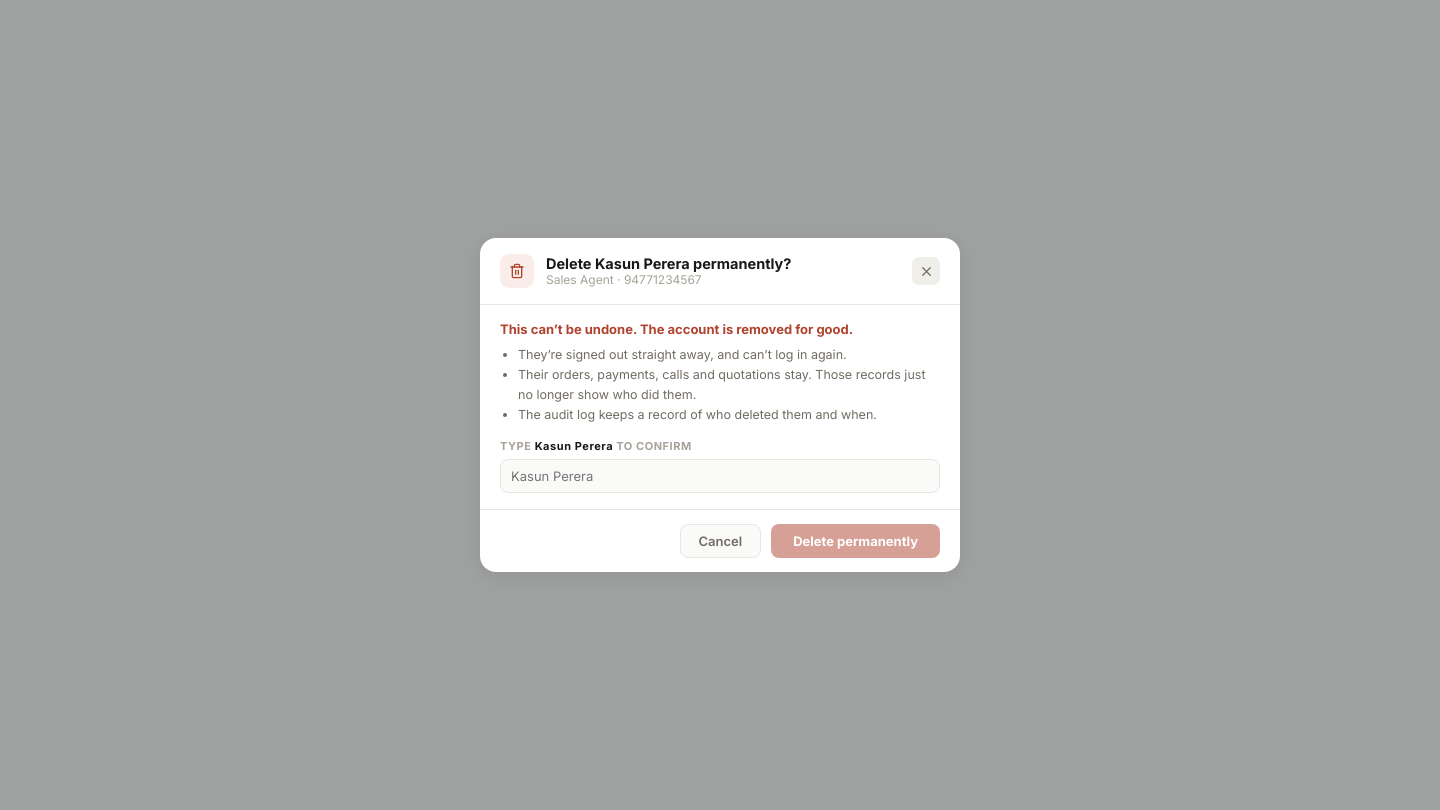
Test case: DeleteUserModal › only deletes once the name is typed
The width and height of the screenshot is (1440, 810).
Expected: the button "Delete permanently" is disabled, [771,524,940,558]
Type "Kasun" into the field labelled "Type Kasun Perera to confirm" at {"x": 720, "y": 476}, box [500,459,940,493]
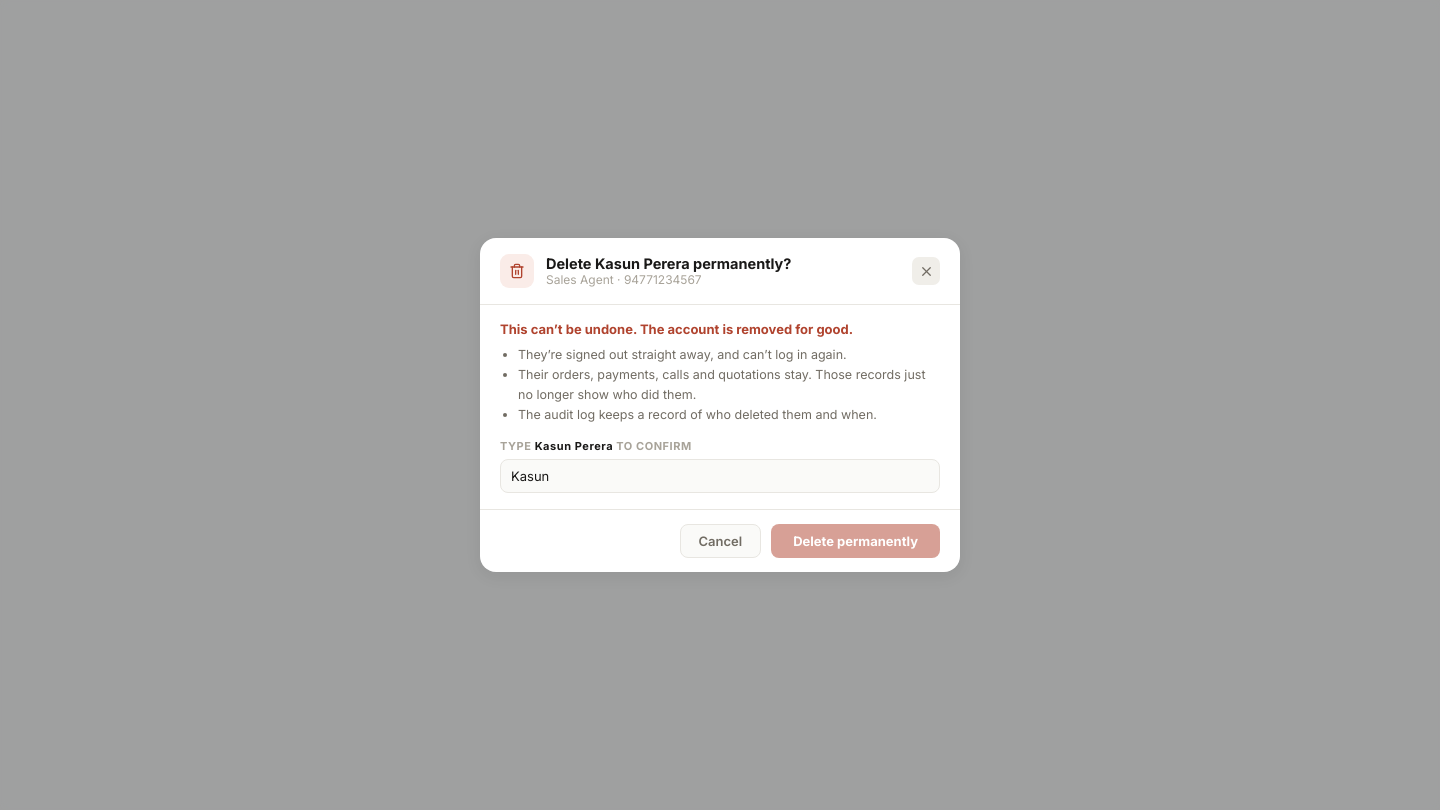
Expected: the button "Delete permanently" is disabled, [771,524,940,558]
Replace the text in the field labelled "Type Kasun Perera to confirm" with " kasun perera " at {"x": 720, "y": 476}, box [500,459,940,493]
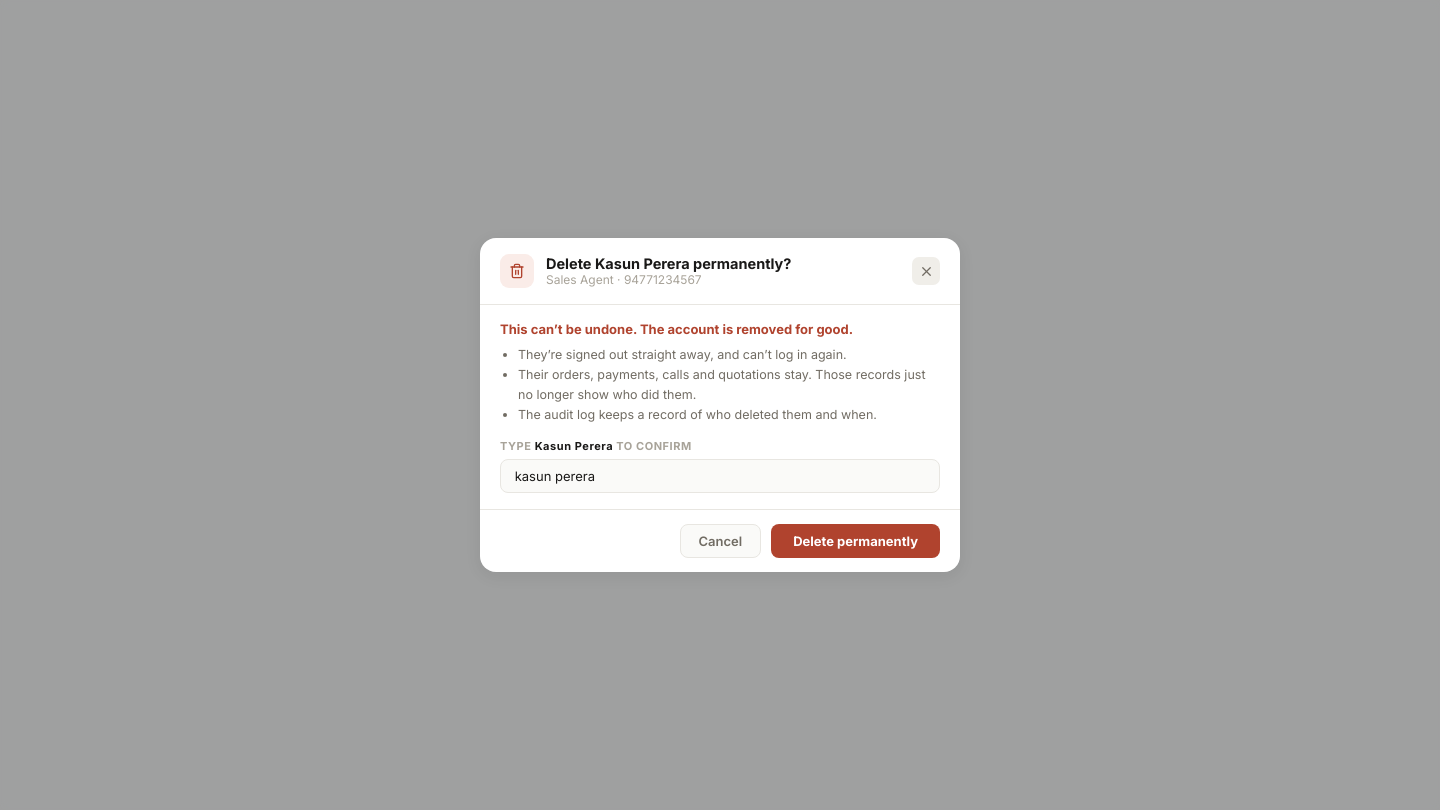
Now the button "Delete permanently" is enabled, box [771,524,940,558]
